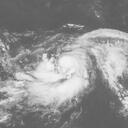cyclone: (26, 48, 94, 107)
